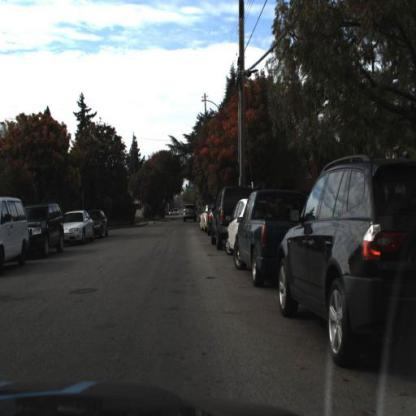car: (277, 156, 416, 376), (230, 187, 309, 291), (210, 182, 245, 251), (25, 207, 66, 258), (1, 198, 28, 275), (63, 210, 94, 250), (183, 201, 200, 227)
